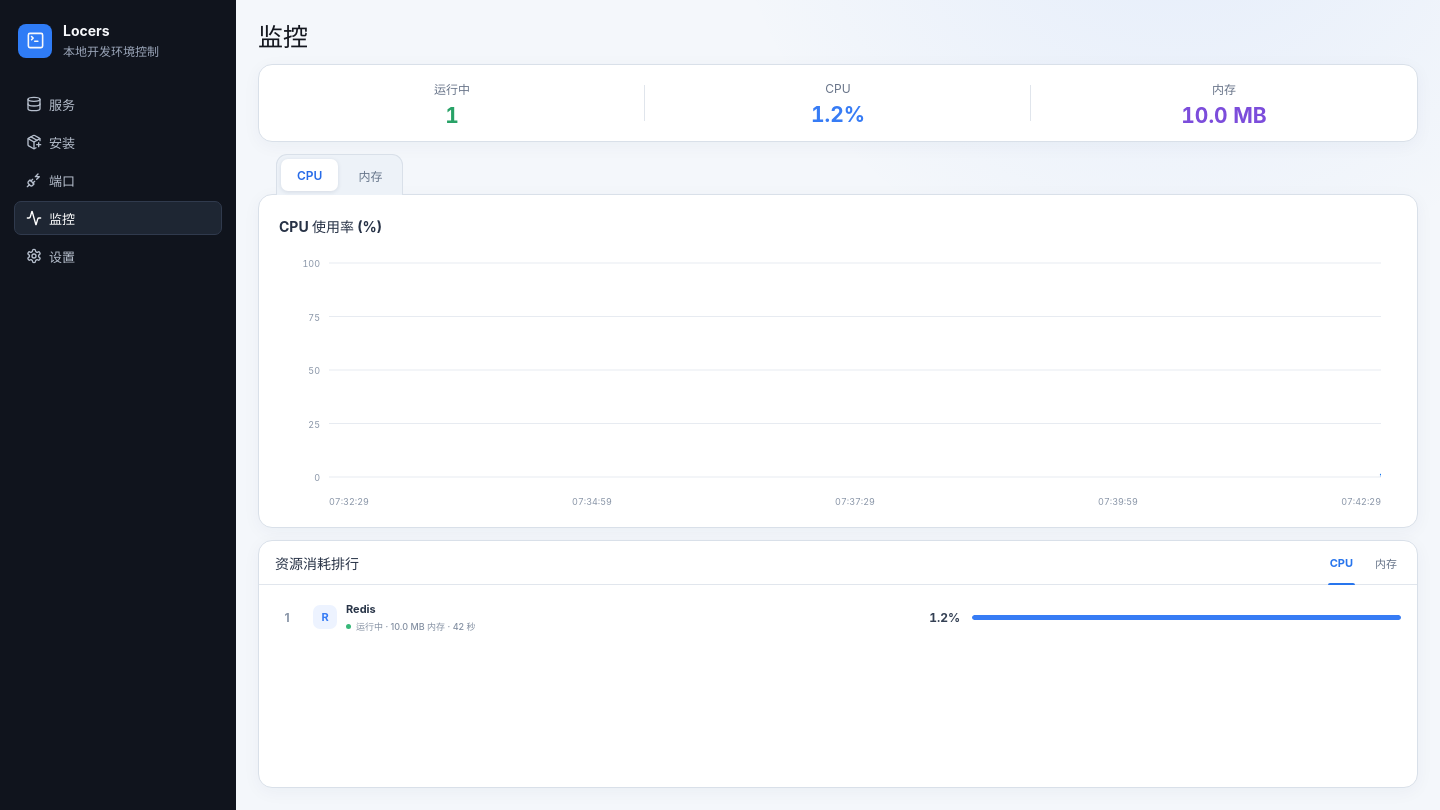
App › renders monitoring trends without a time-range control
expect the heading "CPU 使用率 (%)" is shown: met, box [279,216,382,236]
expect the picture named "CPU 使用率 (%)" is shown: met, box [277,245,1399,515]
Click the 1st tab "内存" at (370, 175), box [342,159,398,191]
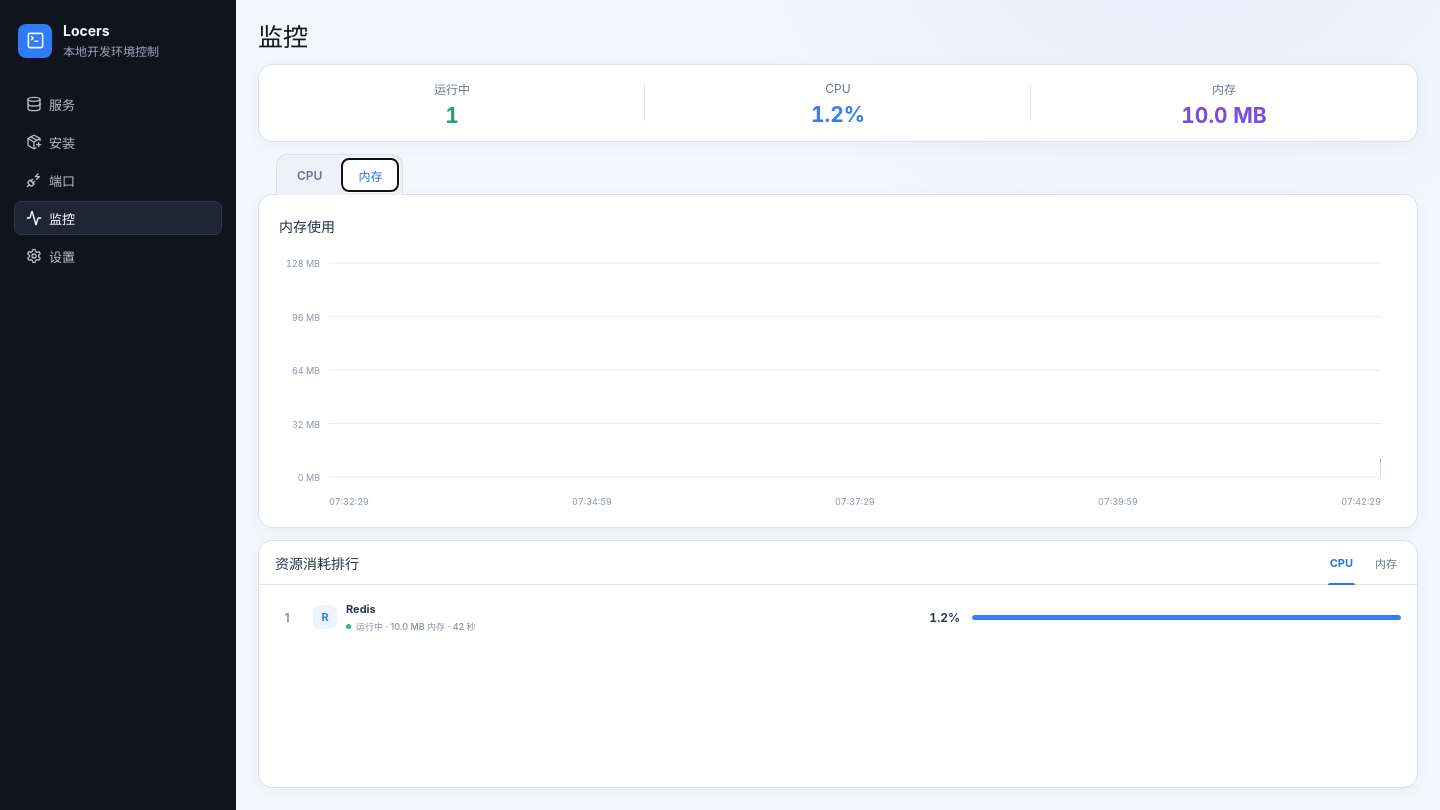
expect the heading "内存使用" is shown: met, box [279,216,335,236]
expect the picture named "内存使用" is shown: met, box [277,245,1399,515]
